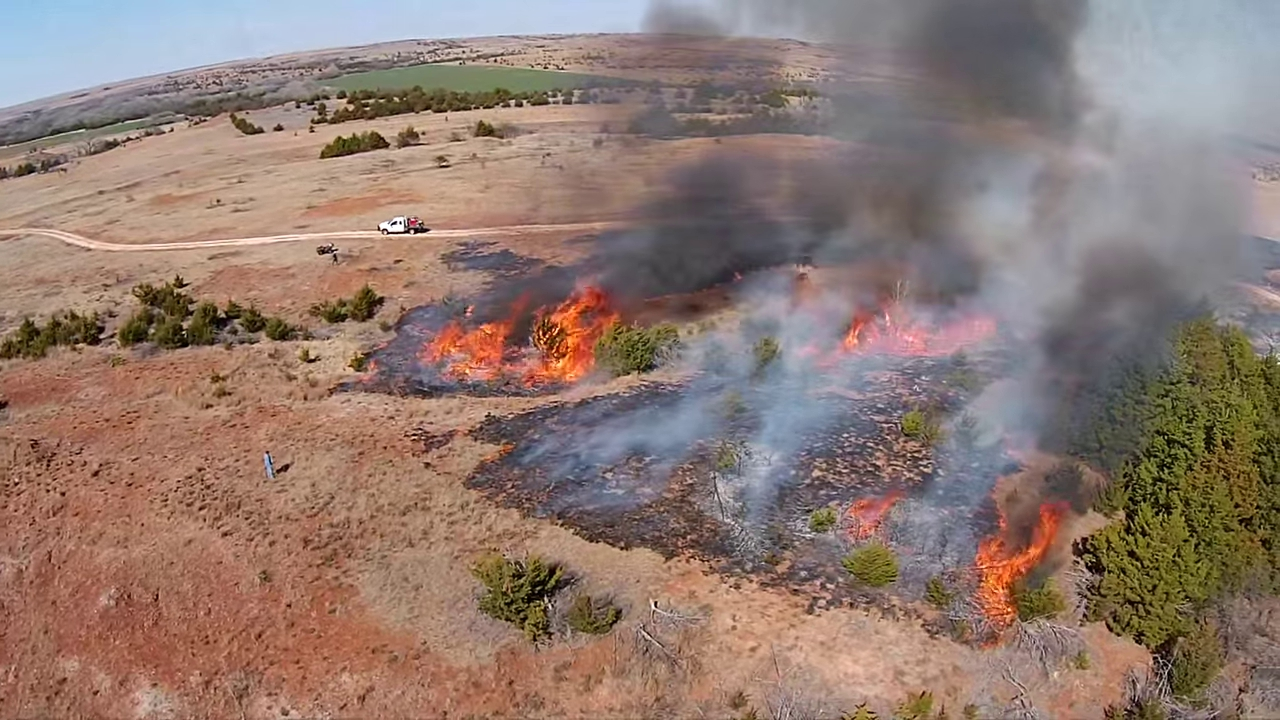forest_fire: (418, 285, 618, 385), (976, 502, 1064, 627), (843, 304, 994, 354), (845, 490, 903, 540)
